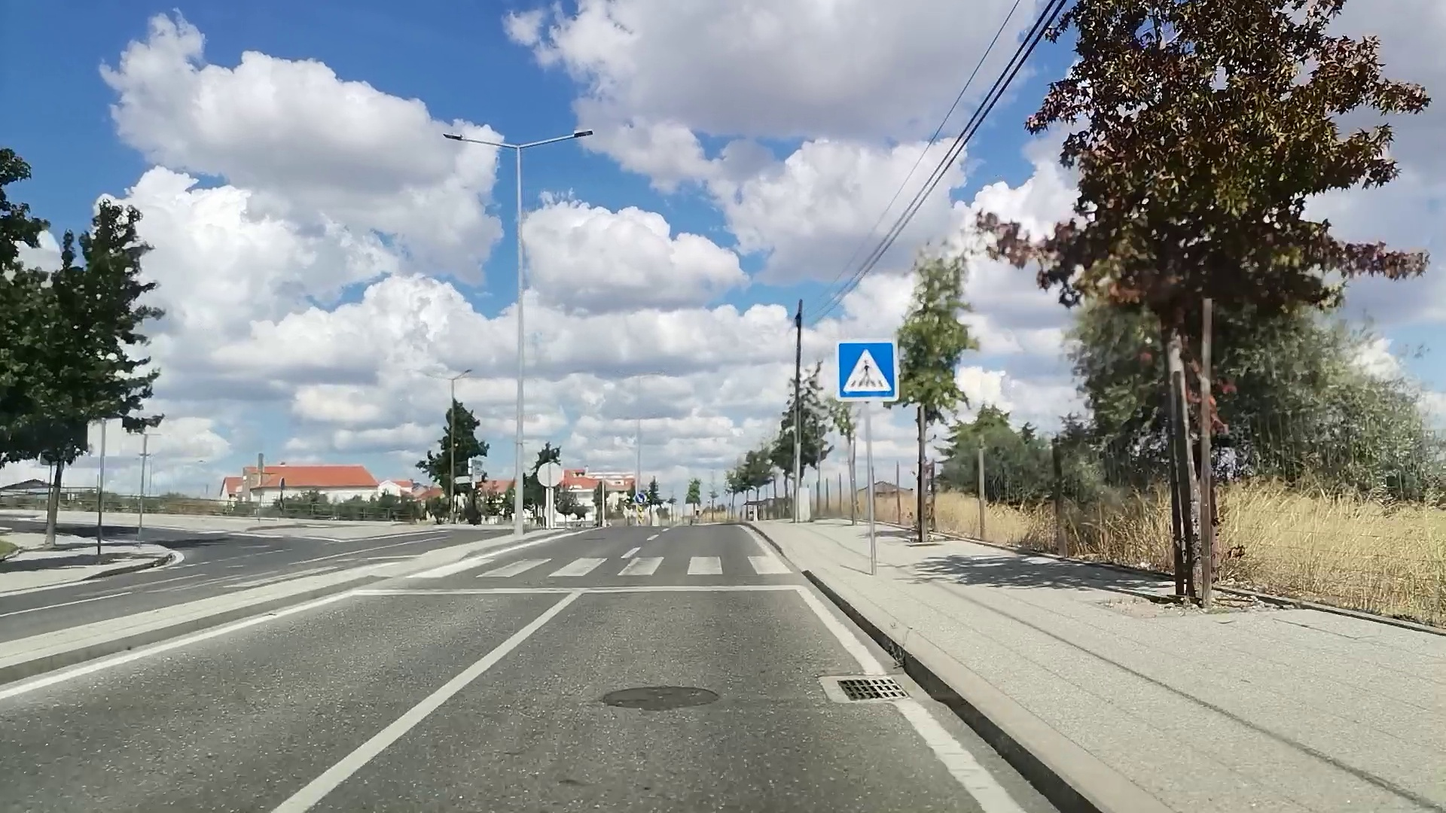Stairs: (413, 553, 795, 578)
